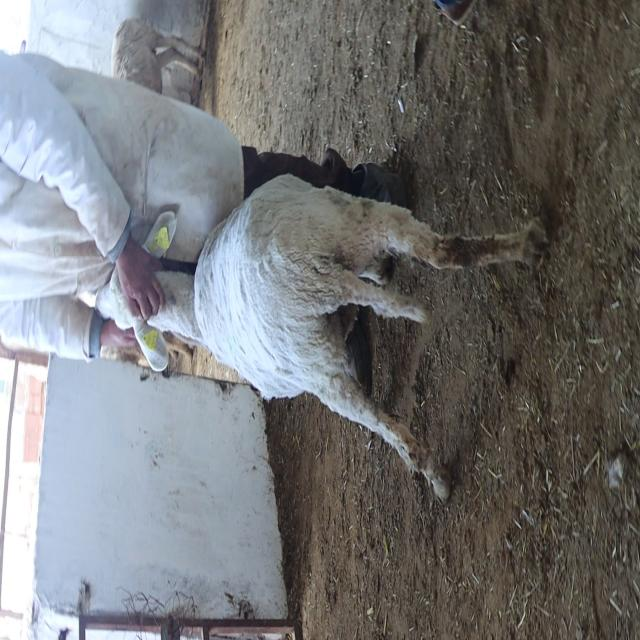Score_4: (146, 175, 547, 500)
